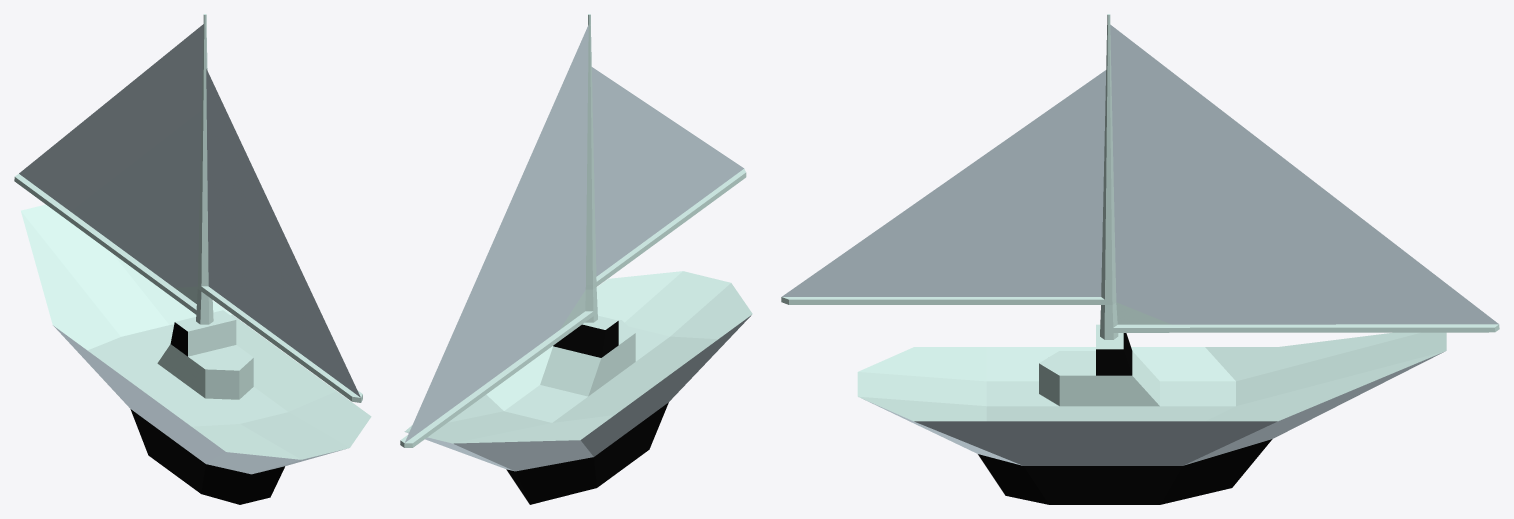
Rendered from boat.fbx.
The picture shows the model from 3 angles, left to right: view 1: azimuth 30°, elevation 25°; view 2: azimuth 150°, elevation 25°; view 3: azimuth 270°, elevation 25°; orthographic projection. The views are drawn at different scales.
Visible parts, largest first — view 1: Boat; view 2: Boat; view 3: Boat.
Boxes of the visible parts, x1=… form: Boat: x1=14, y1=14, x2=371, y2=504; Boat: x1=400, y1=14, x2=752, y2=504; Boat: x1=781, y1=14, x2=1499, y2=504.
Size of the model in its own units: 152 by 450 by 619.
